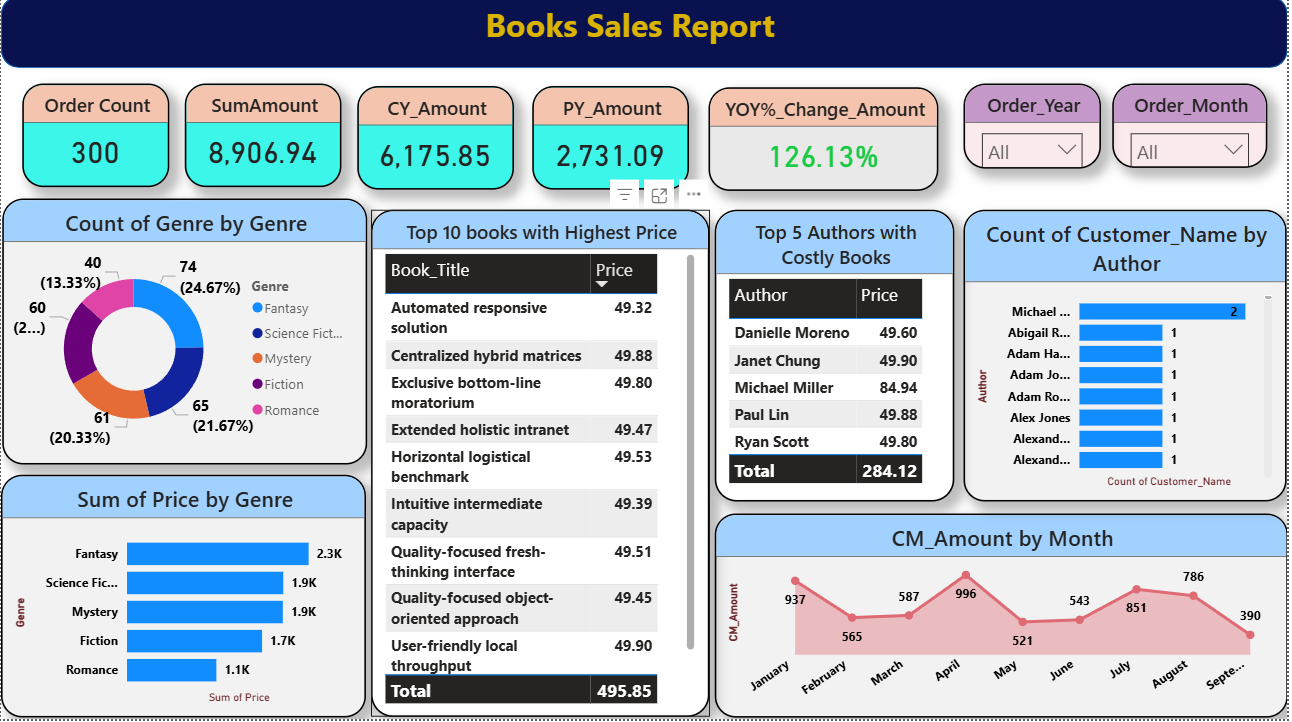

This screenshot's page, from the dashboard's own definition file:
{"tool":"powerbi","page":{"name":"Book_Sales_Report","canvas":[1280,720],"ordinal":0},"visuals":[{"type":"card","title":"Order Count","fields":{"Values":["pbipr books_data.Order_ID"]},"box":[20.7,87.5,146.3,103.4],"z":0},{"type":"card","title":"SumAmount","fields":{"Values":["pbipr books_data.SumAmount"]},"box":[182.9,87.5,155.9,103.4],"z":1000},{"type":"slicer","title":"Order_Year","fields":{"Values":["pbipr books_data.Order_Date.Variation.Date Hierarchy.Year"]},"box":[958.3,86.7,136.7,85],"z":2000},{"type":"slicer","title":"Order_Month","fields":{"Values":["pbipr books_data.Order_Date.Variation.Date Hierarchy.Month"]},"box":[1105.5,87.5,154.3,84.3],"z":3000},{"type":"shape","box":[0,0,1280.4,71.6],"z":4000},{"type":"textbox","box":[470.8,1.6,311.8,65.2],"z":5000},{"type":"card","title":"CY_Amount","fields":{"Values":["pbipr books_data.CY_Amount"]},"box":[354.7,89.1,155.9,103.4],"z":6000},{"type":"card","title":"PY_Amount","fields":{"Values":["pbipr books_data.PY_Amount"]},"box":[528.1,89.1,155.9,103.4],"z":7000},{"type":"card","title":"YOY%_Change_Amount","fields":{"Values":["pbipr books_data.YOY%_Change_Amount"]},"box":[704.6,90.7,229,103.4],"z":8000},{"type":"donutChart","fields":{"Category":["pbipr books_data.Genre"],"Y":["pbipr books_data.Genre"]},"box":[1.7,201.7,363.3,265],"z":9000},{"type":"barChart","fields":{"Category":["pbipr books_data.Genre"],"Y":["pbipr books_data.Price"]},"box":[0,476.7,363.3,241.7],"z":10000},{"type":"tableEx","title":"Top 10 books with Highest Price ","fields":{"Values":["pbipr books_data.Book_Title","pbipr books_data.Price"]},"box":[368.3,213.3,336.7,505],"z":11000},{"type":"tableEx","title":"Top 5 Authors with Costly  Books","fields":{"Values":["pbipr books_data.Author","pbipr books_data.Price"]},"box":[710,213.3,238.3,290],"z":12000},{"type":"areaChart","fields":{"Category":["pbipr books_data.Order_Date.Variation.Date Hierarchy.Month"],"Y":["pbipr books_data.CM_Amount"]},"box":[710,515,570,203.3],"z":13000},{"type":"barChart","fields":{"Category":["pbipr books_data.Author"],"Y":["pbipr books_data.Customer_Name"]},"box":[958.3,213.3,321.7,290],"z":14000}]}

Visuals, with their boxes in screenshot pixels (x1, y1, x2, y2), scaled from the page's 1280x720 canvas onto the 1292x722 screenshot:
"Order Count" card: 21:88:169:191
"SumAmount" card: 185:88:342:191
"Order_Year" slicer: 967:87:1105:172
"Order_Month" slicer: 1116:88:1272:172
shape: 0:0:1291:72
textbox: 475:2:790:67
"CY_Amount" card: 358:89:515:193
"PY_Amount" card: 533:89:690:193
"YOY%_Change_Amount" card: 711:91:942:195
donutChart - pbipr books_data.Genre x pbipr books_data.Genre: 2:202:368:468
barChart - pbipr books_data.Genre x pbipr books_data.Price: 0:478:367:720
"Top 10 books with Highest Price " tableEx: 372:214:712:720
"Top 5 Authors with Costly  Books" tableEx: 717:214:957:505
areaChart - pbipr books_data.Order_Date.Variation.Date Hierarchy.Month x pbipr books_data.CM_Amount: 717:516:1291:720
barChart - pbipr books_data.Author x pbipr books_data.Customer_Name: 967:214:1291:505
